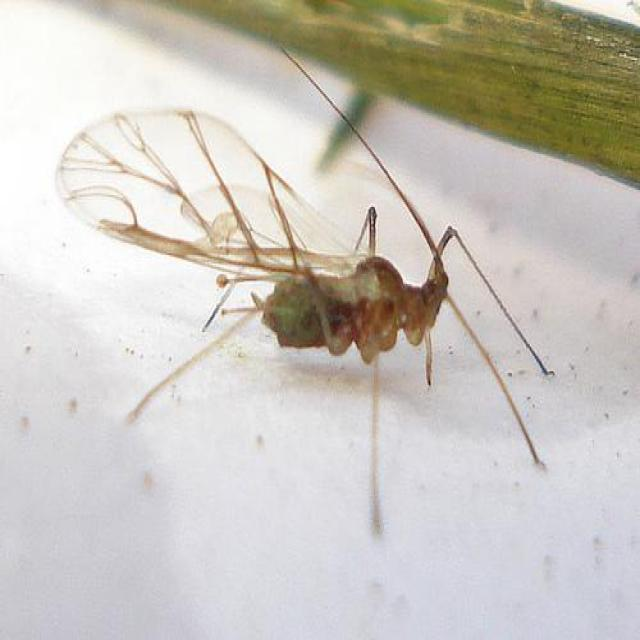Aphids: (54, 56, 562, 533)
